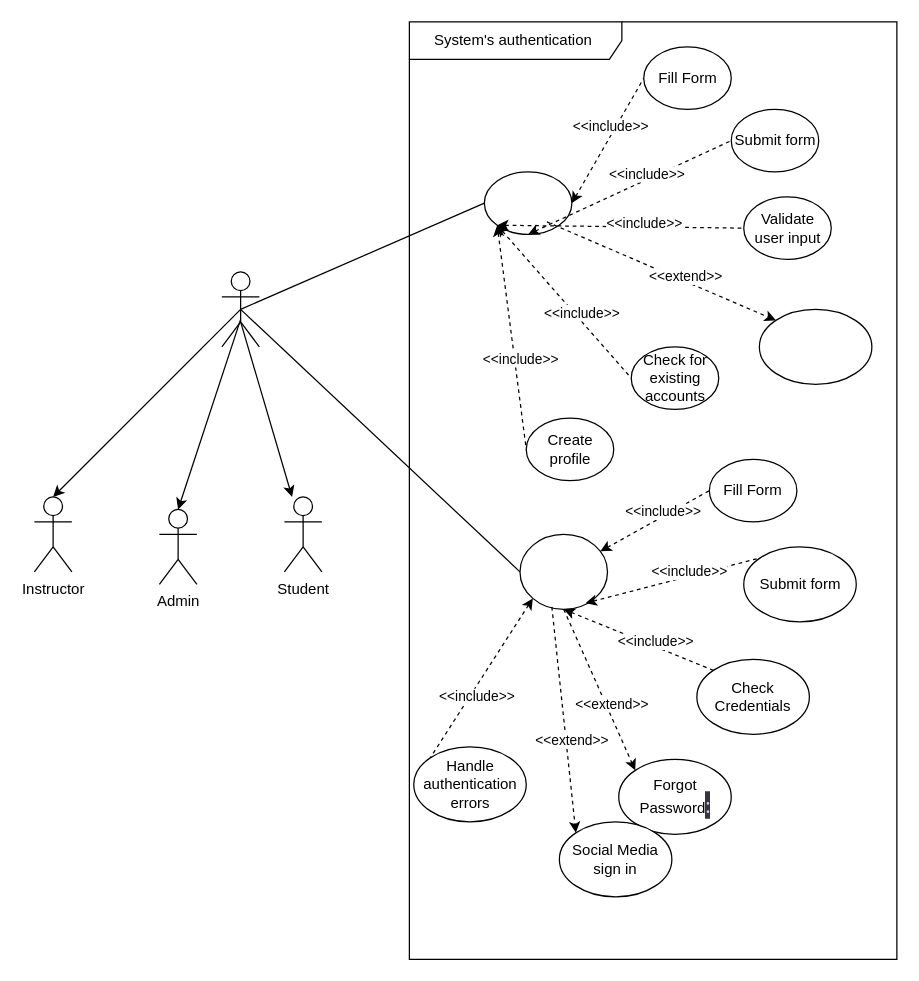
Image size: 919x981. Some labels were removed from this diagram. The centre of each missing label's shape, as x and y in pixels:
"Sign In" goes at pixel 563 571.
"Sign Up" goes at pixel 527 202.
"Social Media sign up" goes at pixel 815 346.
"User" goes at pixel 240 309.
